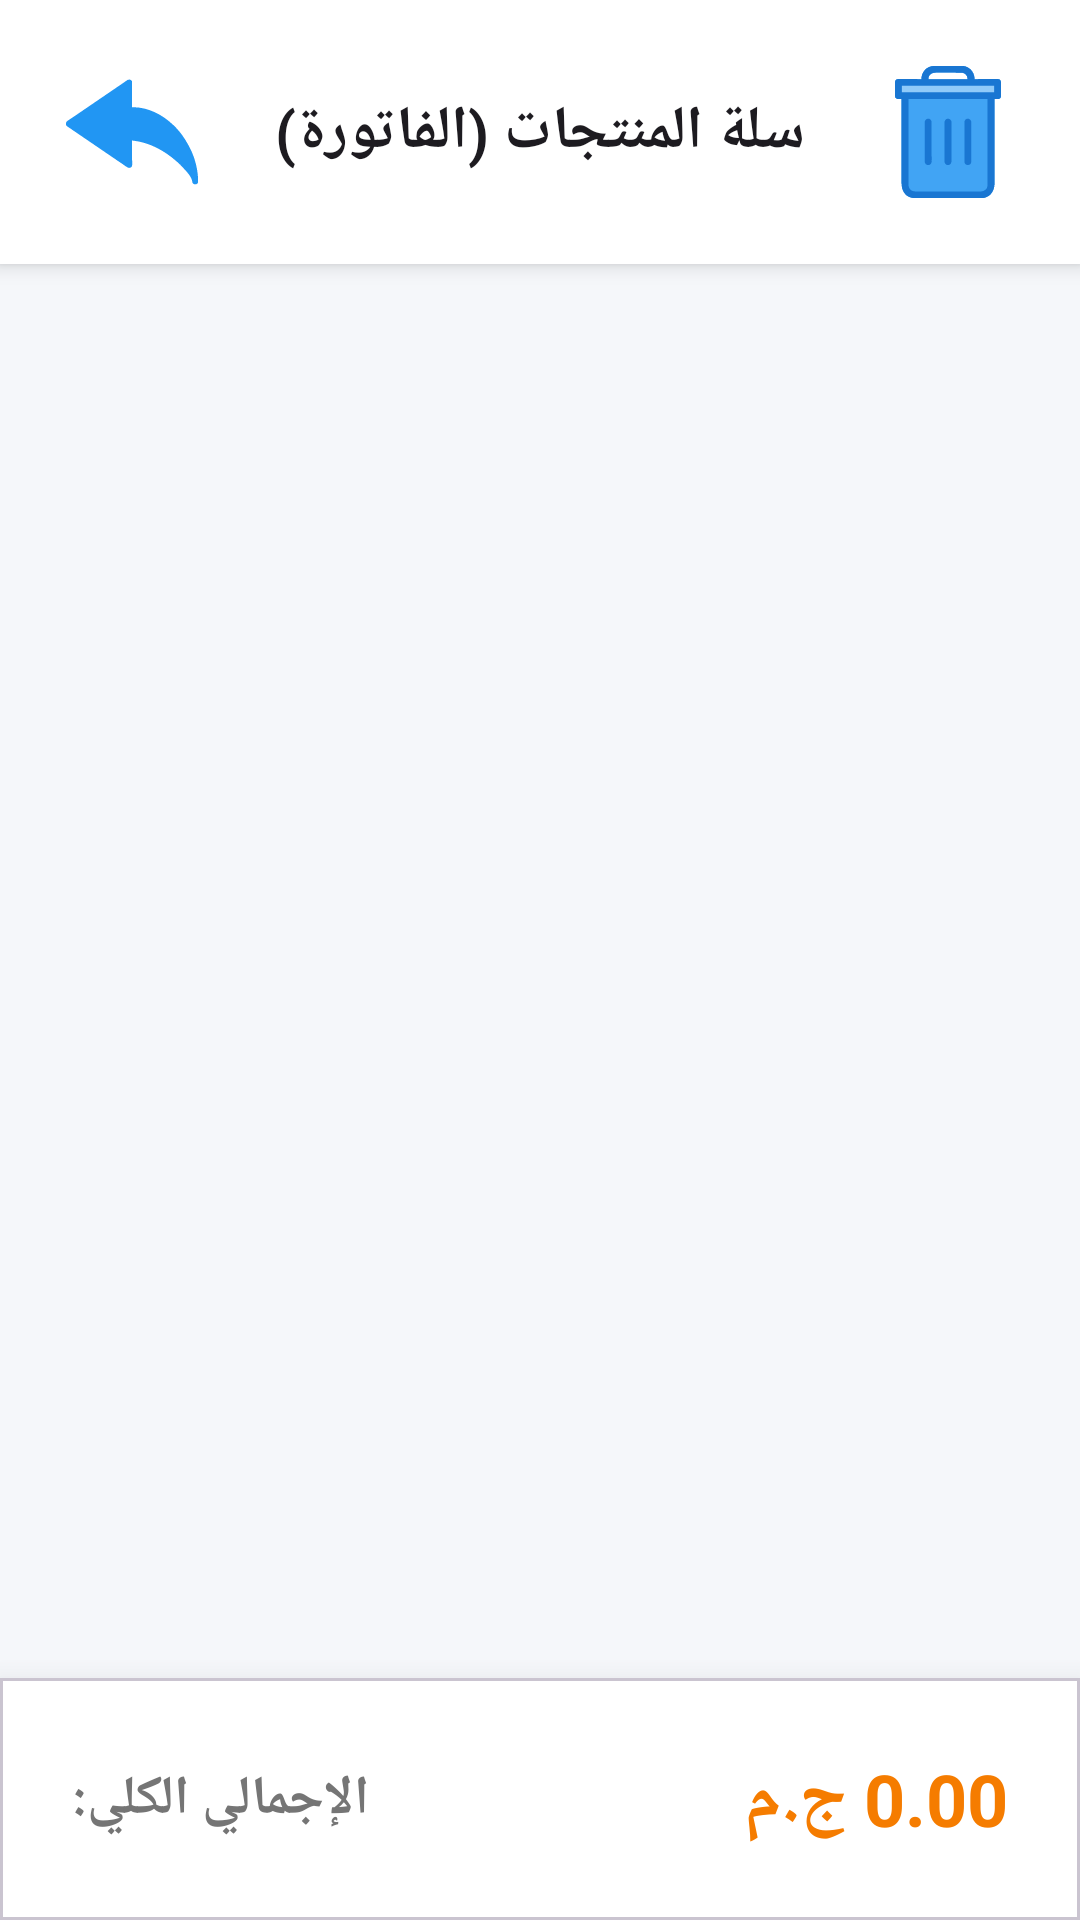

Locate icon controls on the screen. Image size 1080×1920, boxes as box=[x1, y1, x2, y2].
إفراغ السلة: box=[895, 66, 1001, 198]
رجوع: box=[66, 79, 198, 185]
